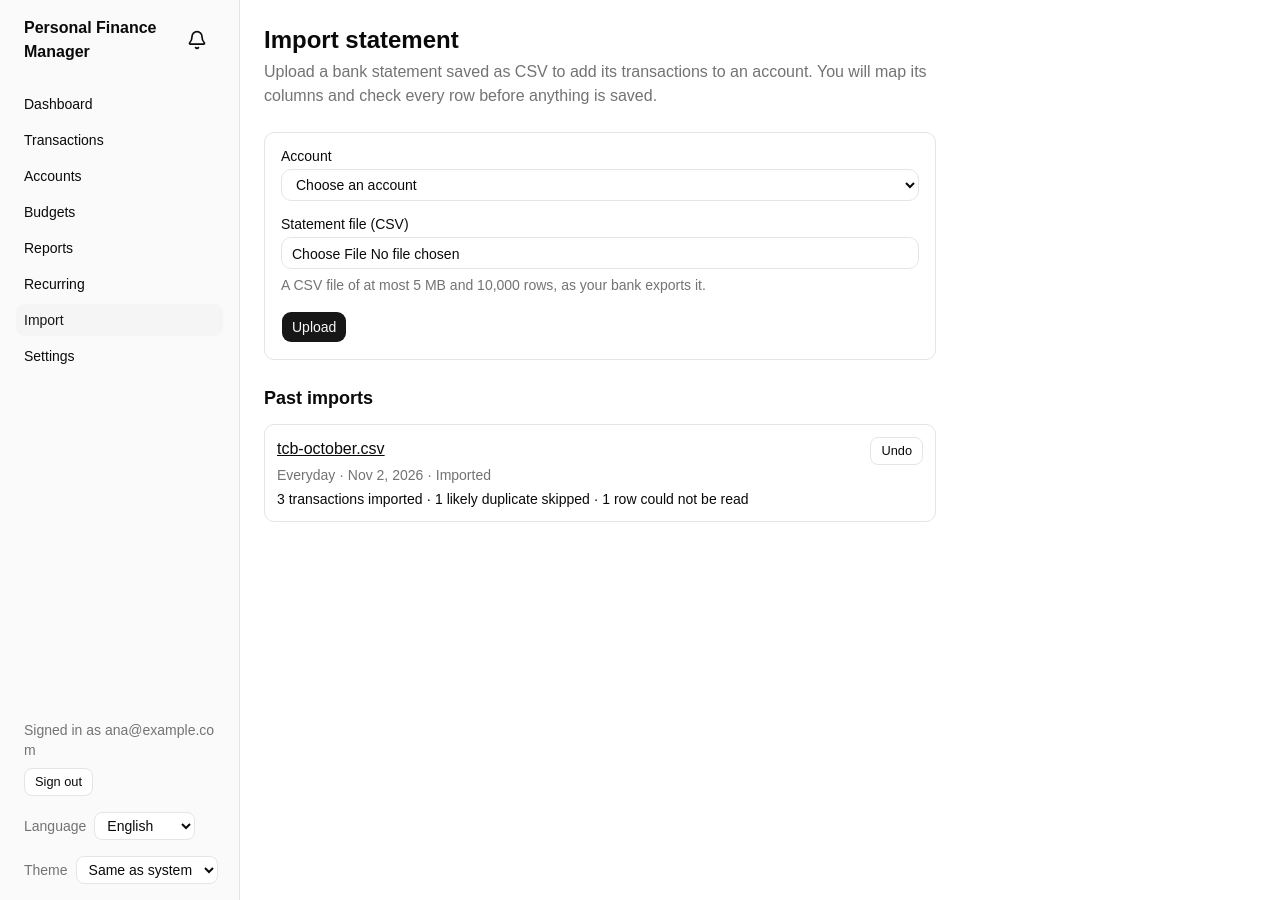
Test case: past imports › says an import cannot be undone while any of its transactions is reconciled, and undoes nothing
Step 1. Click the button with aria-label "Undo tcb-october.csv" → point(897, 451), box [870,437,923,465]
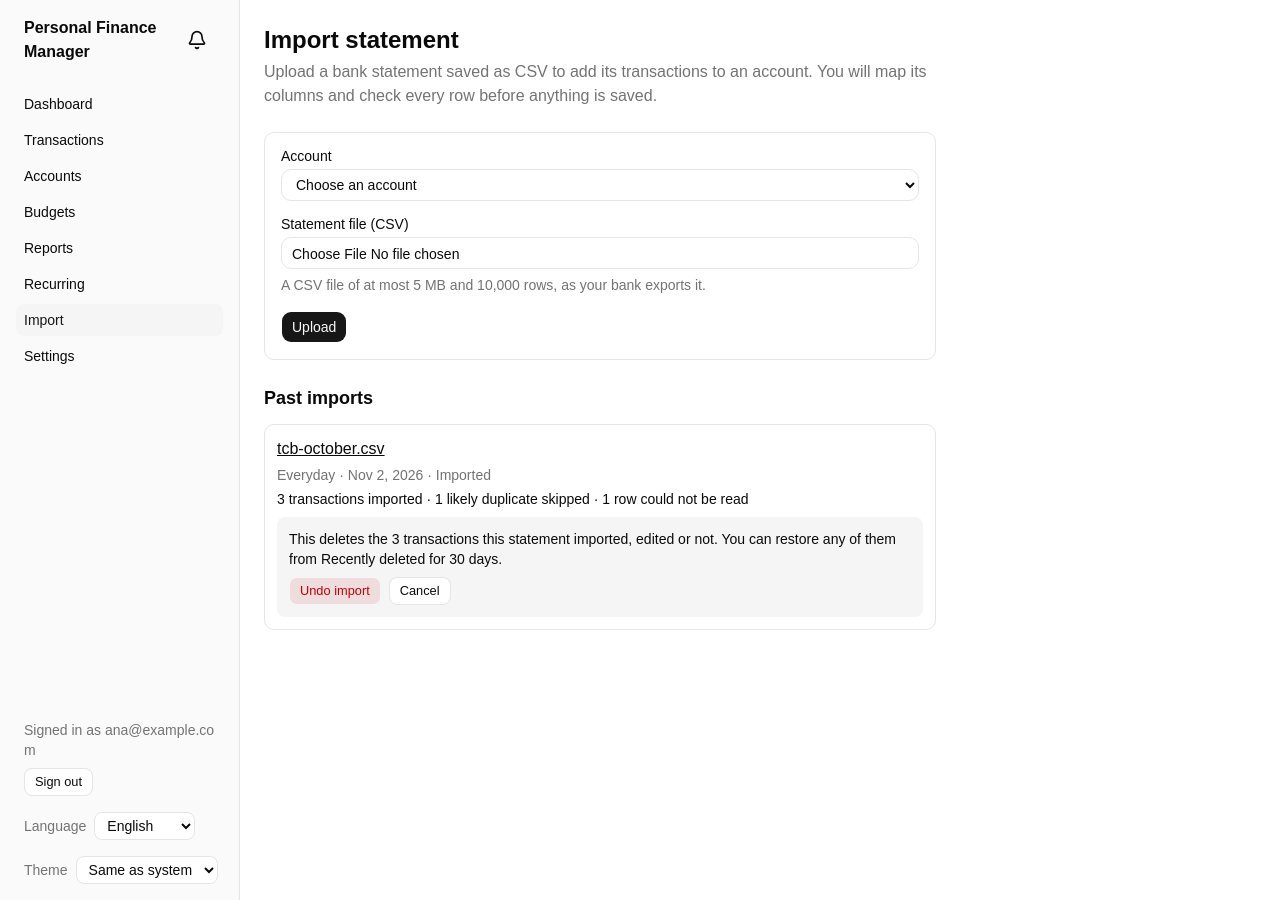
Step 2. Click the button "Undo import" → point(335, 591), box [289,577,381,605]
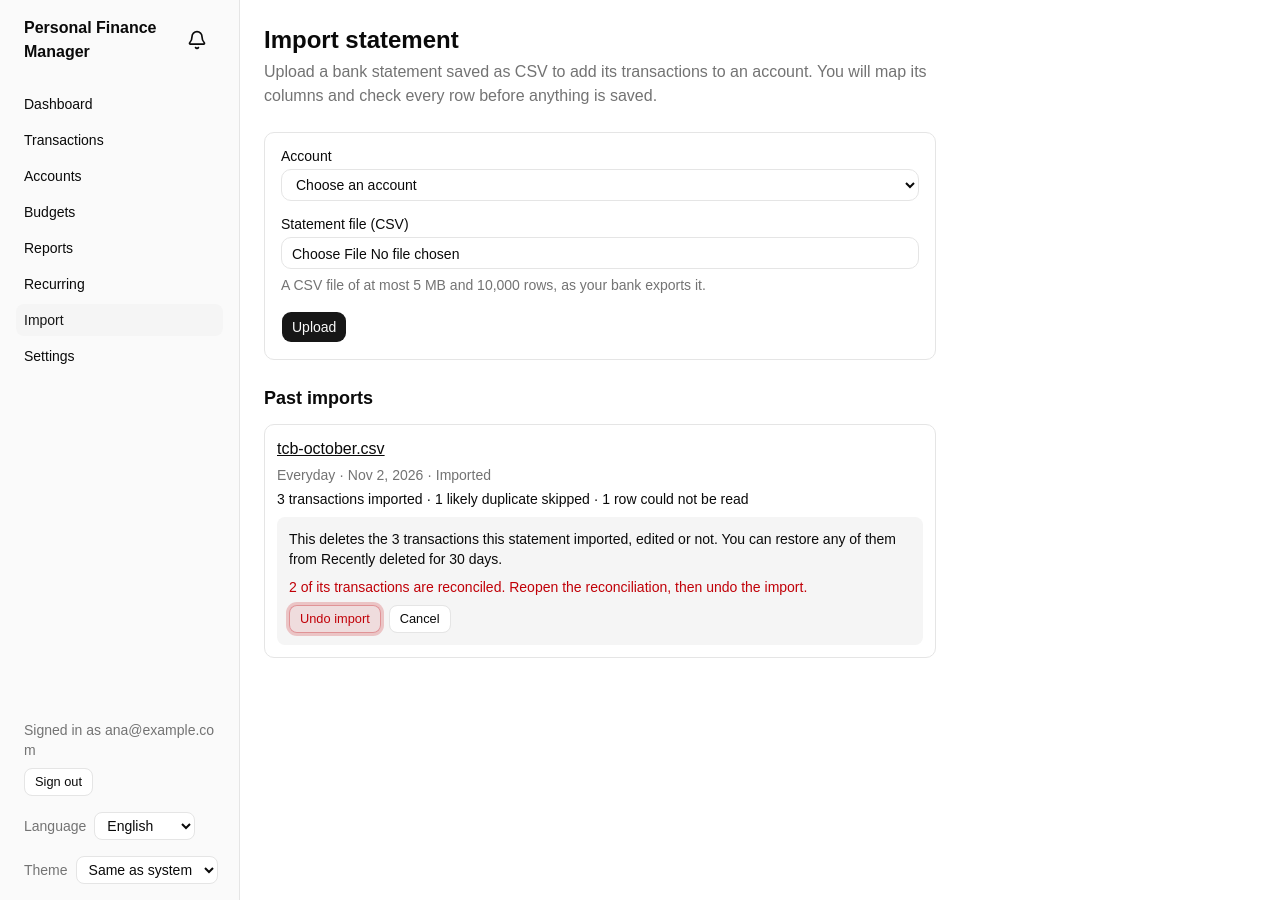
Result: the text "2 of its transactions are reconciled. Reopen the reconciliation, then undo the import." is shown at [289,579,807,595]
